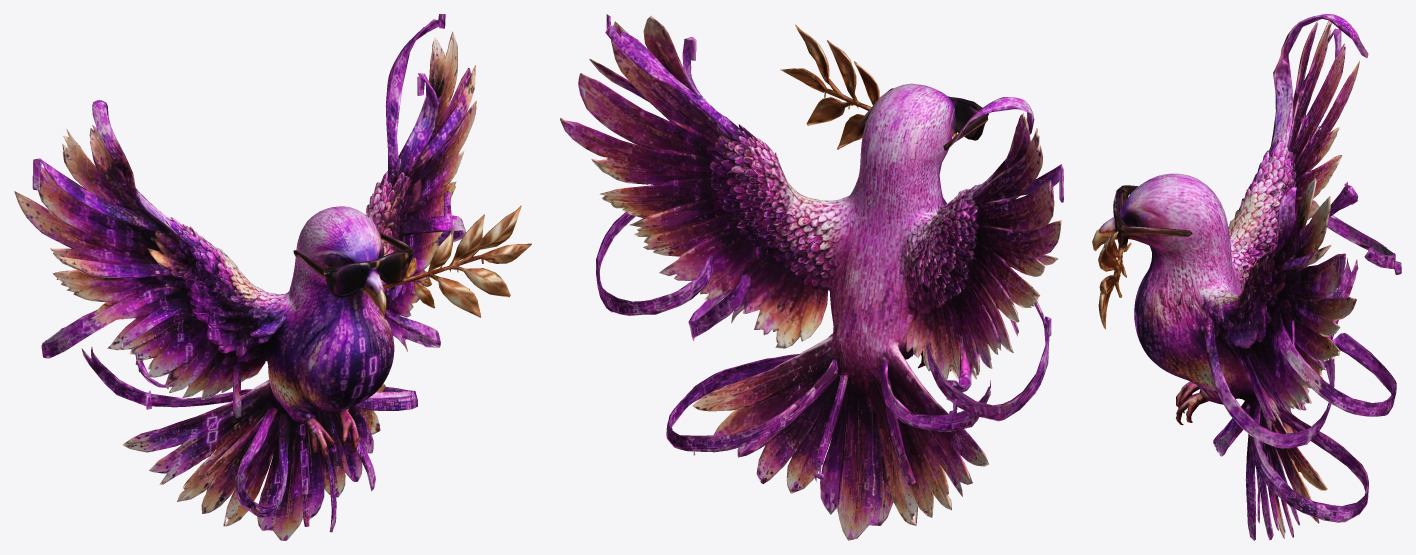
The model's file is taube.glb.
3 views of the same model, side by side, from view 1: azimuth 30°, elevation 25°; view 2: azimuth 150°, elevation 25°; view 3: azimuth 270°, elevation 25° (orthographic). The views are drawn at different scales.
Visible parts, largest first — view 1: tripo_node_07ed8402-47db-40f5-b62d-02e1cf4508ae; view 2: tripo_node_07ed8402-47db-40f5-b62d-02e1cf4508ae; view 3: tripo_node_07ed8402-47db-40f5-b62d-02e1cf4508ae.
Boxes of the visible parts, x1,y1,x2,y2 form: tripo_node_07ed8402-47db-40f5-b62d-02e1cf4508ae: (14, 14, 531, 540); tripo_node_07ed8402-47db-40f5-b62d-02e1cf4508ae: (560, 14, 1063, 540); tripo_node_07ed8402-47db-40f5-b62d-02e1cf4508ae: (1092, 14, 1401, 540).
Size of the model in its own units: 0.9806 by 0.9359 by 0.5878.
1 material, 1 textured.
